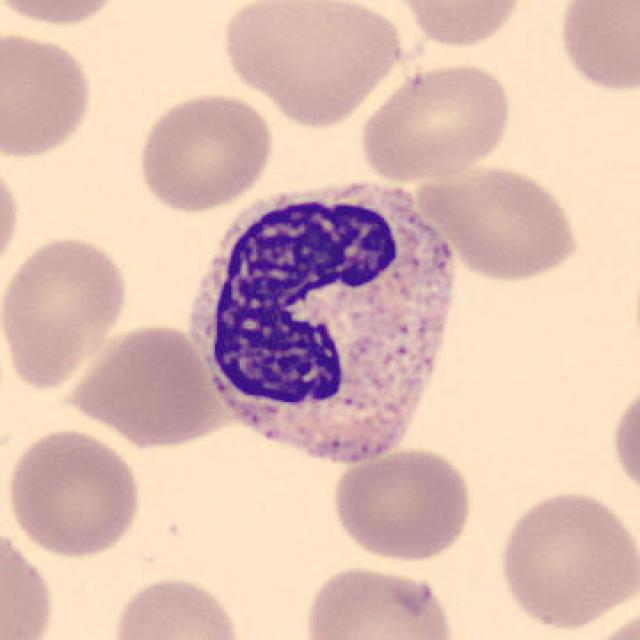Neutrophil: (180, 166, 470, 483)
RBC: (217, 0, 411, 129), (61, 319, 230, 448), (411, 160, 585, 284), (0, 231, 132, 393), (494, 482, 636, 630), (356, 58, 516, 184), (2, 423, 146, 561), (134, 88, 278, 215), (327, 443, 477, 564), (0, 26, 98, 162), (298, 560, 460, 640), (108, 571, 245, 640), (553, 0, 638, 97), (0, 522, 59, 640), (387, 0, 526, 49), (608, 376, 640, 506), (2, 0, 132, 30), (0, 152, 23, 284)
